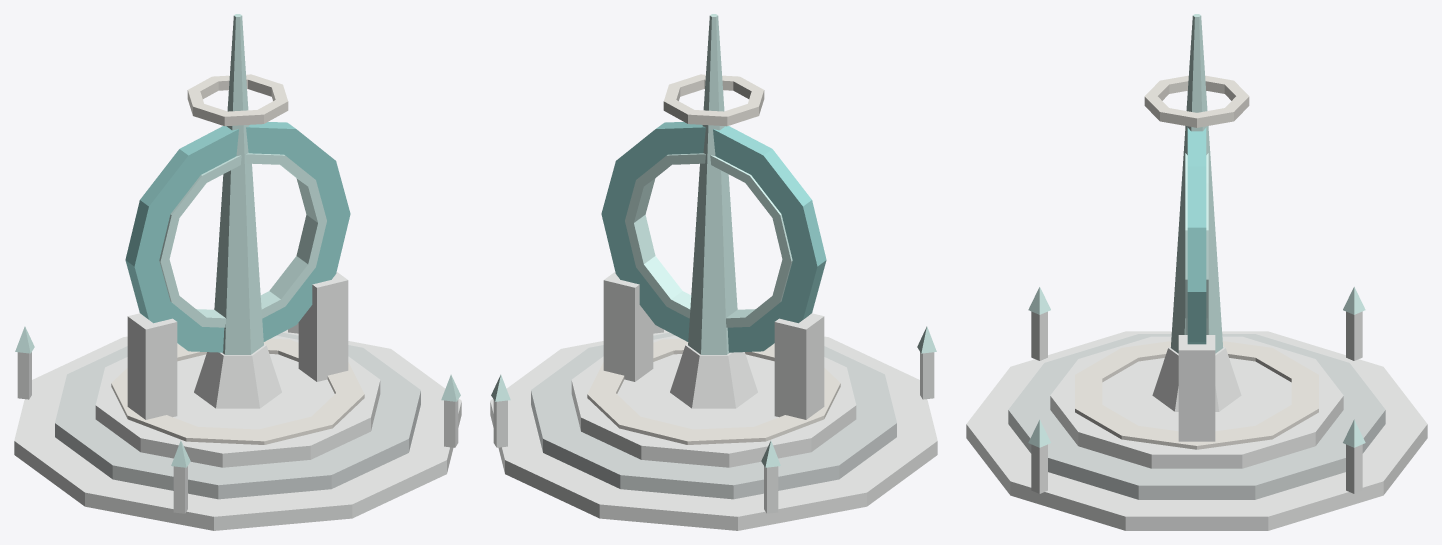
Rendered from temple.glb.
3 views of the same model, side by side, from view 1: azimuth 30°, elevation 25°; view 2: azimuth 150°, elevation 25°; view 3: azimuth 270°, elevation 25° (orthographic).
Visible parts, largest first — view 1: arcology_temple; view 2: arcology_temple; view 3: arcology_temple.
Boxes of the visible parts, bbox=[...] form: arcology_temple: bbox=[14, 14, 461, 530]; arcology_temple: bbox=[490, 14, 937, 530]; arcology_temple: bbox=[966, 14, 1427, 530].
Bounding box in the file's own units: 0.8369 × 0.89 × 0.88.
